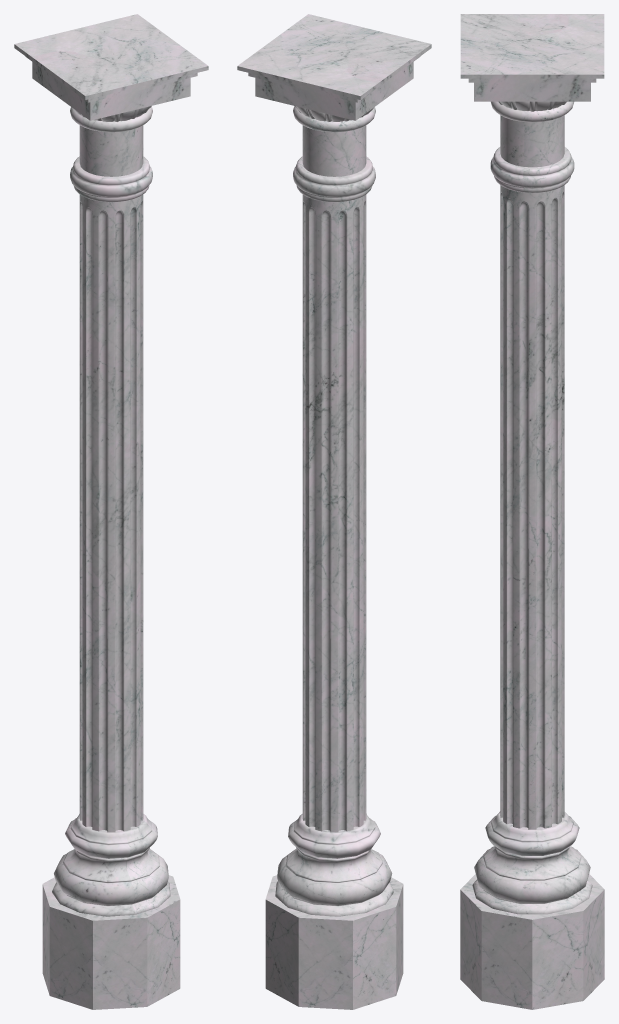
File: pillar.glb
3 views of the same model, side by side, from view 1: azimuth 30°, elevation 25°; view 2: azimuth 150°, elevation 25°; view 3: azimuth 270°, elevation 25° (orthographic).
Parts seen in each view (by area): view 1: CirclEl, CubEl; view 2: CirclEl, CubEl; view 3: CirclEl, CubEl.
Part boxes in pixels (<box>): CirclEl: <box>52,106,170,916</box>; CubEl: <box>14,14,208,1009</box>; CirclEl: <box>275,106,393,916</box>; CubEl: <box>237,14,431,1009</box>; CirclEl: <box>472,101,592,914</box>; CubEl: <box>460,14,604,1009</box>.
Size of the model in its own units: 0.4433 by 3.17 by 0.4433.
2 materials, 2 textured.
